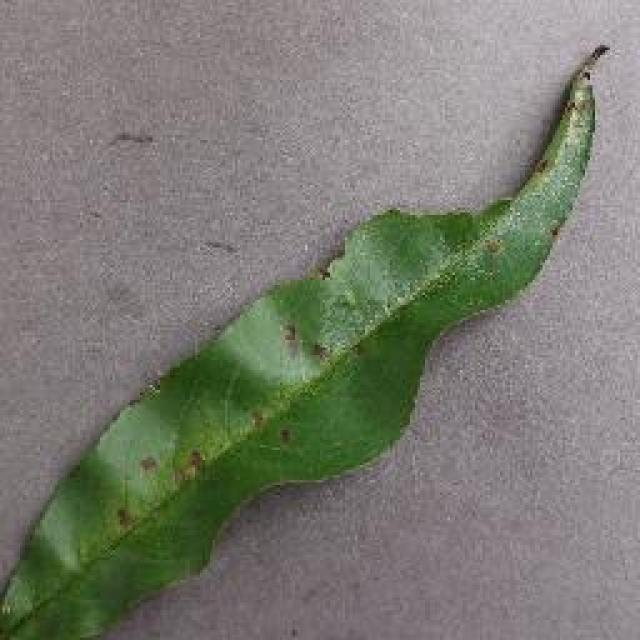Peach_Bacterial_Spot: (120, 264, 483, 474)
